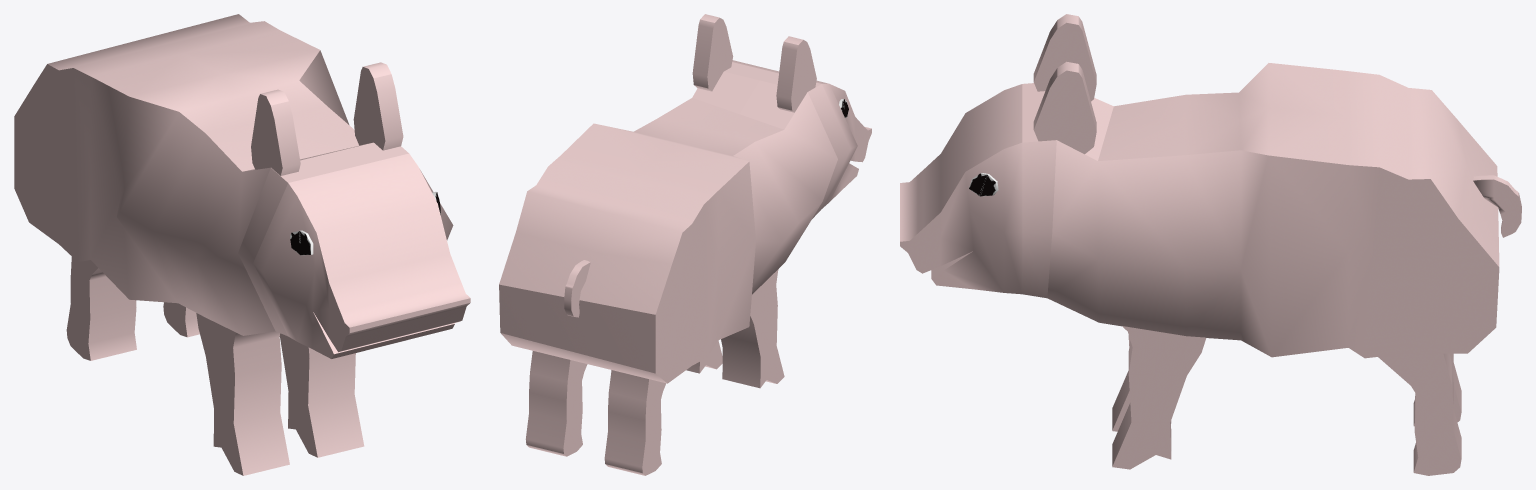
File: pig_2.fbx
3 views of the same model, side by side, from view 1: azimuth 30°, elevation 25°; view 2: azimuth 150°, elevation 25°; view 3: azimuth 270°, elevation 25° (orthographic). The views are drawn at different scales.
Visible parts, largest first — view 1: body, pCube13, pCube2, polySurface2; view 2: body, pCube13, pCube2; view 3: body, pCube13, pCube2.
Boxes of the visible parts, bbox=[...] form: body: bbox=[14, 14, 470, 358]; pCube13: bbox=[66, 62, 403, 475]; pCube2: bbox=[279, 333, 364, 457]; polySurface2: bbox=[290, 230, 313, 255]; body: bbox=[499, 60, 871, 383]; pCube13: bbox=[525, 14, 816, 475]; pCube2: bbox=[686, 340, 722, 373]; body: bbox=[900, 63, 1499, 358]; pCube13: bbox=[1033, 14, 1521, 475]; pCube2: bbox=[1112, 326, 1206, 469].
Size of the model in its own units: 3.45 by 5.4 by 7.63.
